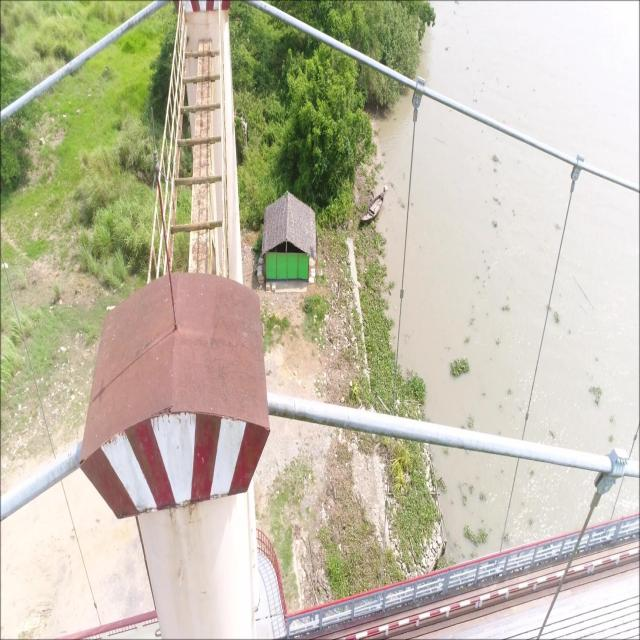crack: (291, 398, 297, 418), (346, 411, 351, 426), (436, 433, 440, 443)
